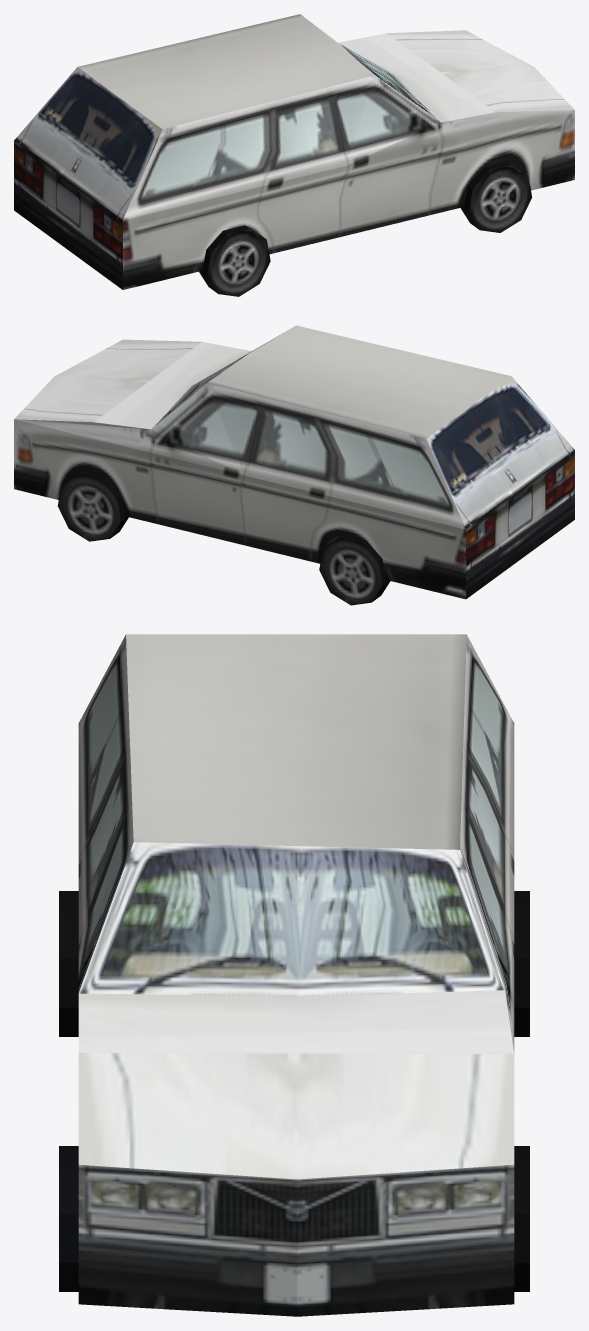
The model's file is Auto8blanco.fbx.
3 views of the same model, one above another, from view 1: azimuth 30°, elevation 25°; view 2: azimuth 150°, elevation 25°; view 3: azimuth 270°, elevation 25° (orthographic). The views are drawn at different scales.
Parts seen in each view (by area): view 1: Wheel1; view 2: Wheel1; view 3: Wheel1.
Part boxes in pixels (x1,y1,x2,y2): Wheel1: [14, 14, 574, 296]; Wheel1: [14, 325, 574, 605]; Wheel1: [59, 634, 529, 1316].
Bounding box in the file's own units: 345 × 121 × 151.
5 materials, 5 textured.
